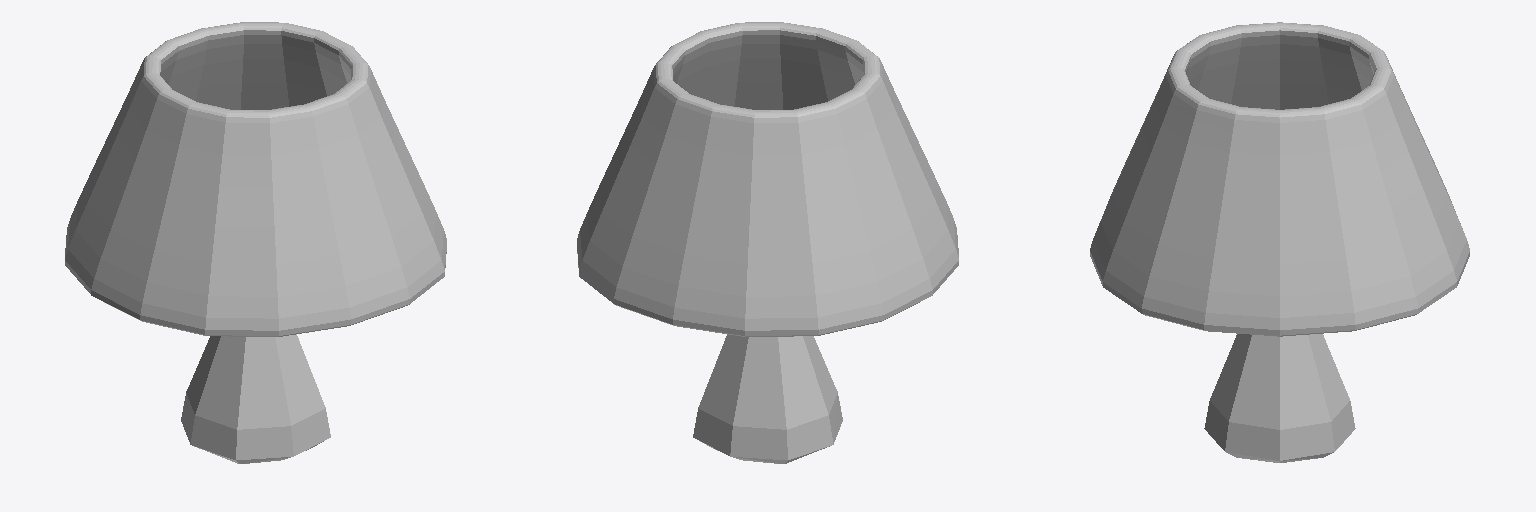
Rendered from Trasher(b).obj.
3 renders of one model, left to right at view 1: azimuth 30°, elevation 25°; view 2: azimuth 150°, elevation 25°; view 3: azimuth 270°, elevation 25°, orthographic.
Parts seen in each view (by area): view 1: Cube_Cube.005; view 2: Cube_Cube.005; view 3: Cube_Cube.005.
Part boxes in pixels (x1,y1,x2,y2): Cube_Cube.005: (65, 22, 446, 463); Cube_Cube.005: (577, 22, 958, 463); Cube_Cube.005: (1090, 22, 1469, 462).
Size of the model in its own units: 1.81 by 1.98 by 1.81.